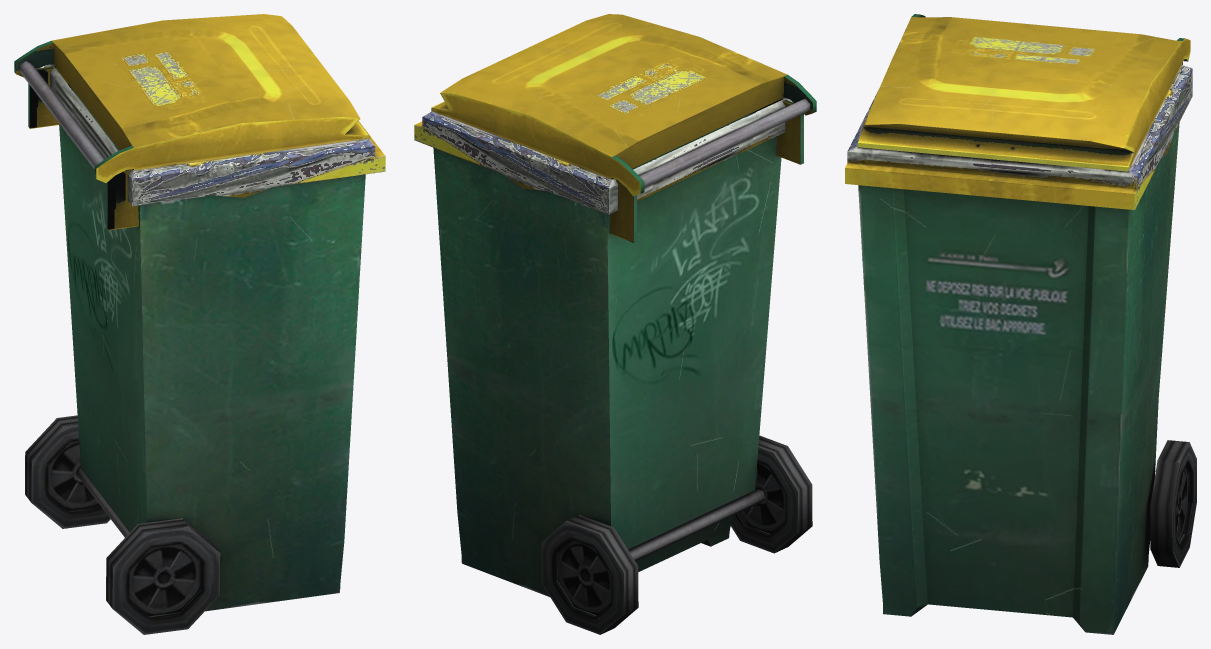
File: poubelle_3.glb
The picture shows the model from 3 angles, left to right: view 1: azimuth 30°, elevation 25°; view 2: azimuth 150°, elevation 25°; view 3: azimuth 270°, elevation 25°; orthographic projection. The views are drawn at different scales.
Visible parts, largest first — view 1: SM_TrashBin_Material #2_0; view 2: SM_TrashBin_Material #2_0; view 3: SM_TrashBin_Material #2_0.
Part boxes in pixels (<box>): SM_TrashBin_Material #2_0: <box>14,14,385,634</box>; SM_TrashBin_Material #2_0: <box>414,14,816,634</box>; SM_TrashBin_Material #2_0: <box>845,14,1196,634</box>.
Bounding box in the file's own units: 0.7162 × 1.11 × 0.6904.
1 material, 1 textured.
